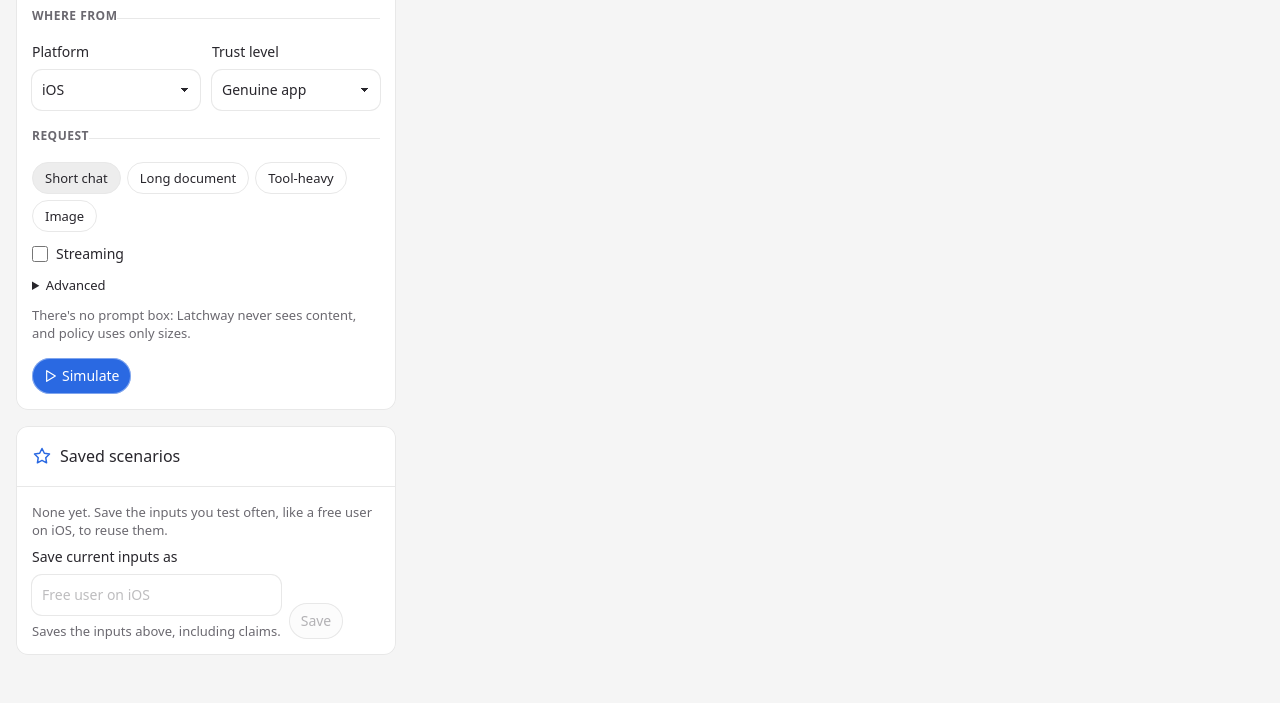
Simulator › with policy insights › asks the server what happens when a connection is down
(page scrolled)
Click the button "Simulate" at (82, 376), box [32,358,132,394]
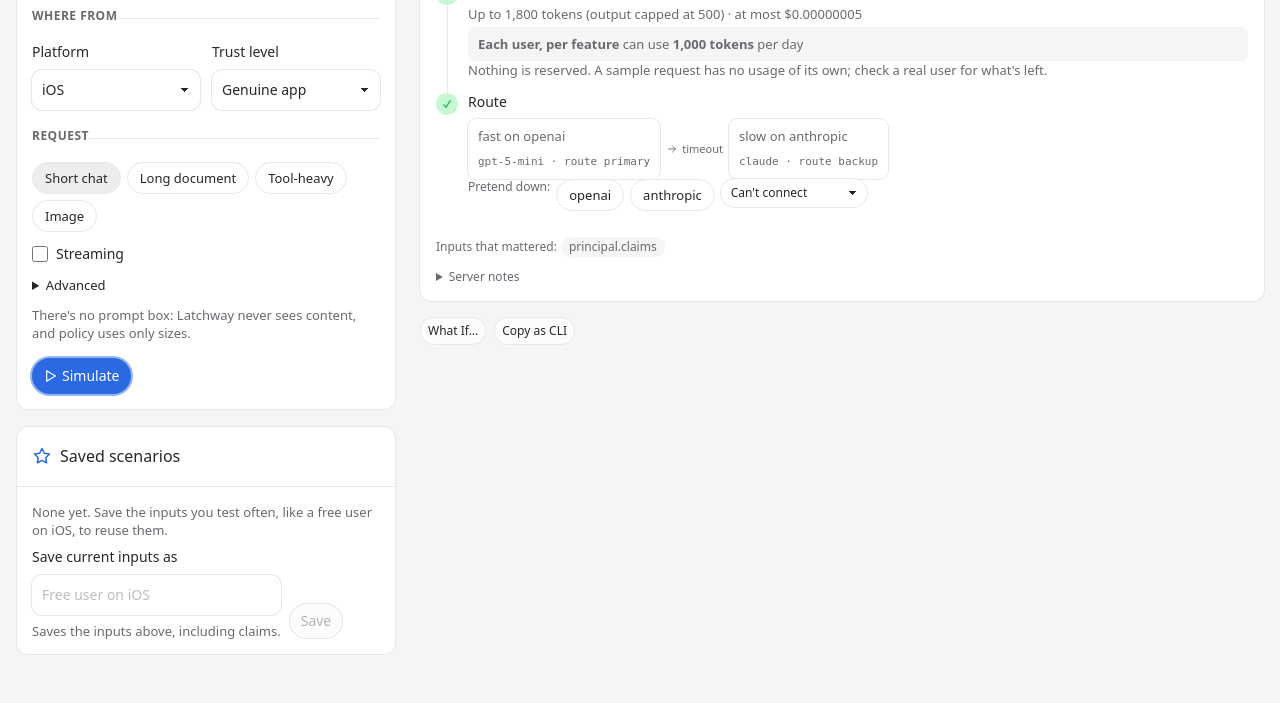
Click the button "openai" at (590, 195), box [556,179,624,211]
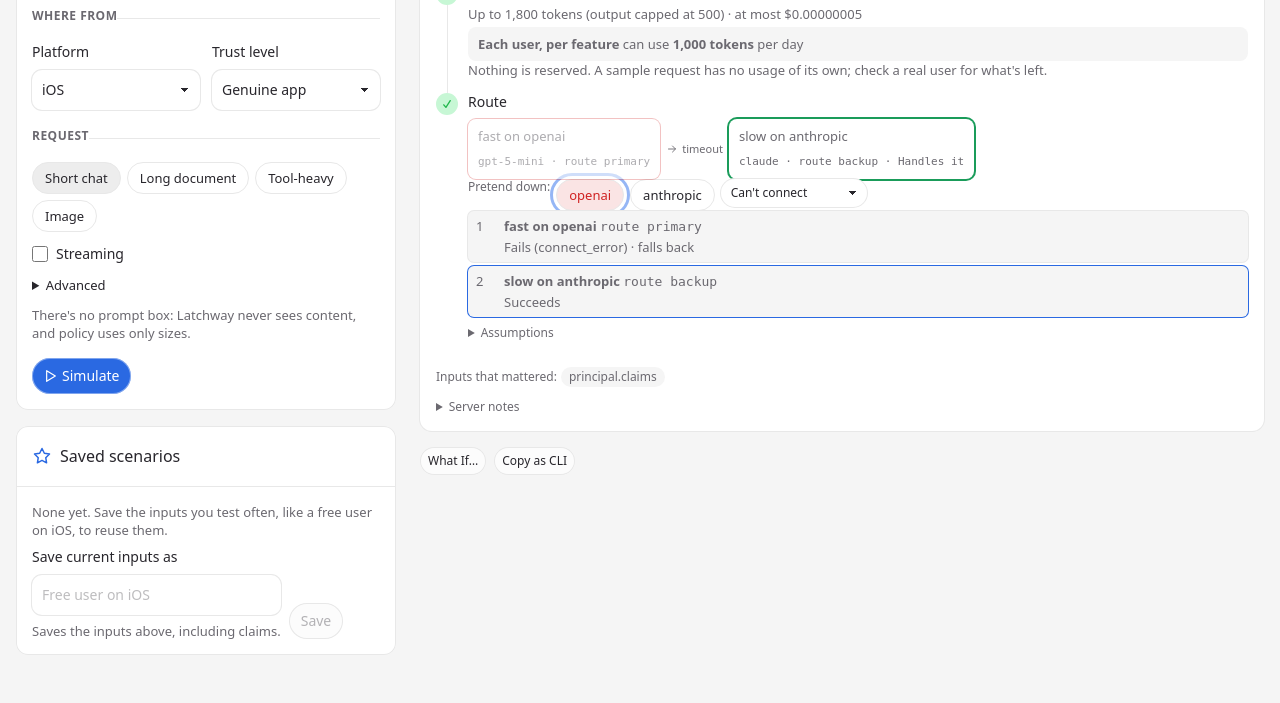
expect the list named "Attempts" shows "Fails (connect_error) · falls back": met, box [468,211,1248,317]
expect the list named "Attempts" shows "Succeeds": met, box [504,293,560,311]
Select "Rate limited (429)" in the dropdown named "Fails with" at (794, 193), box [721,179,867,207]
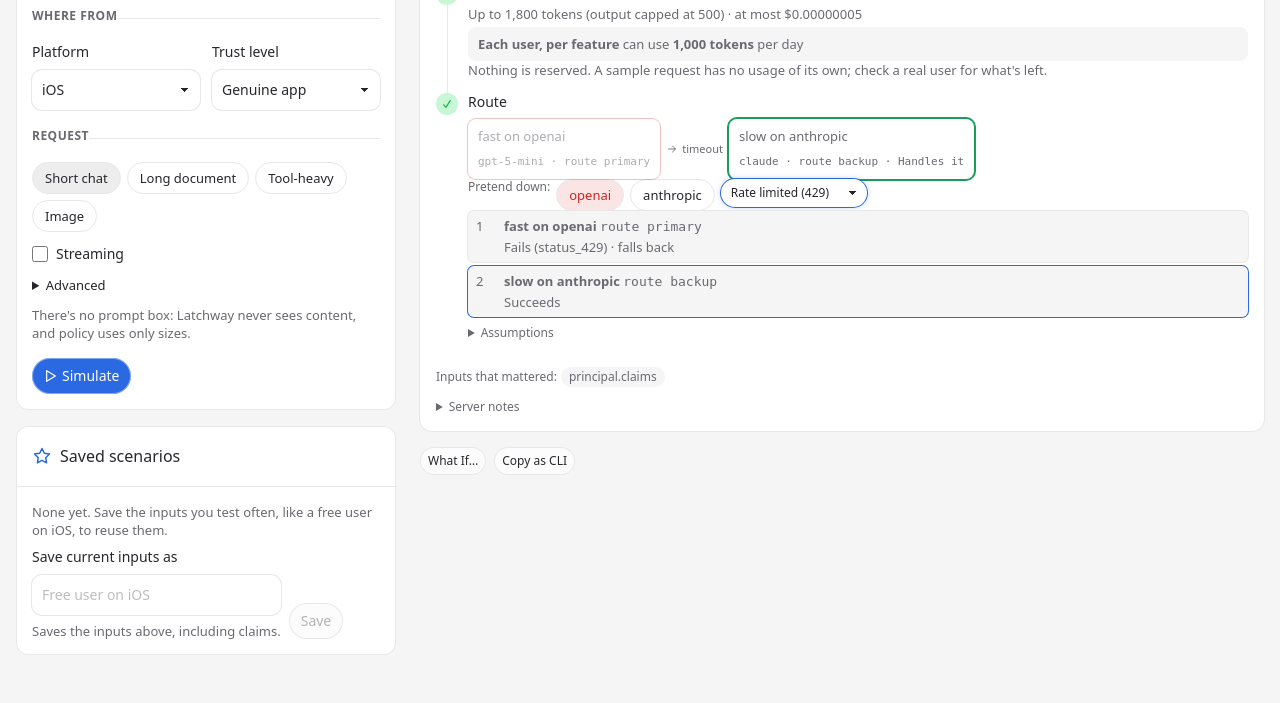
expect the text "Fails (status_429) · falls back" is shown: met, box [504,238,674,256]
